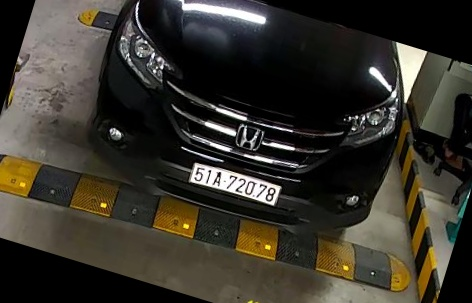plate: (188, 158, 280, 210)
